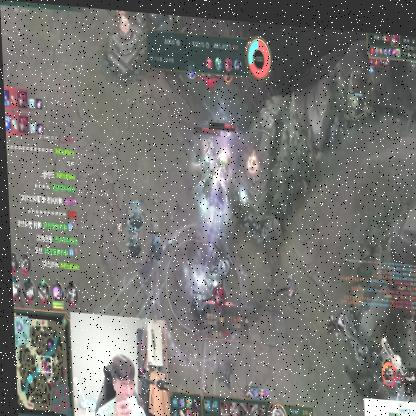streamer: (90, 350, 149, 416)
